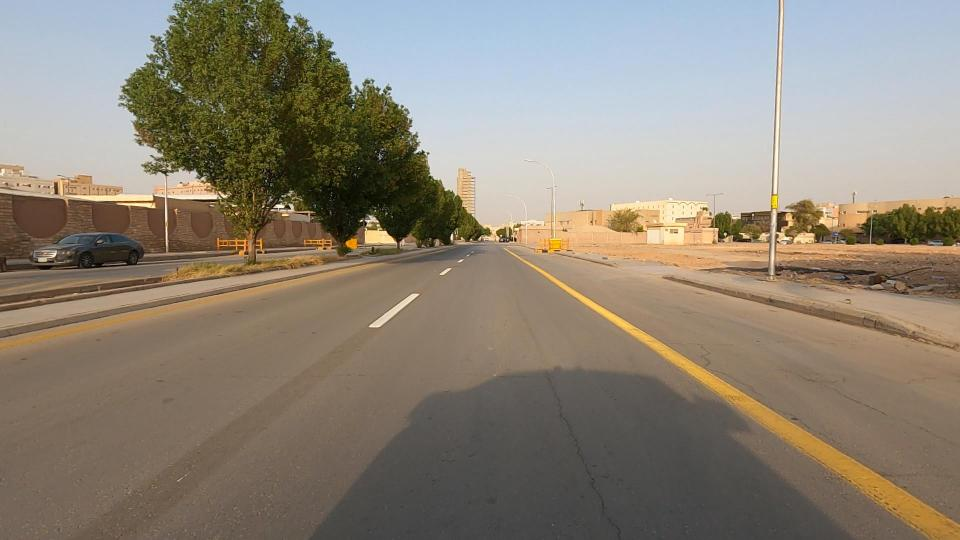GARBAGE: (757, 236, 960, 324)
